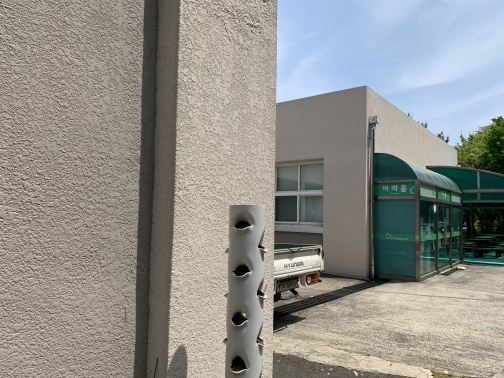Ara Hall: (278, 84, 503, 286), (370, 143, 504, 282)
